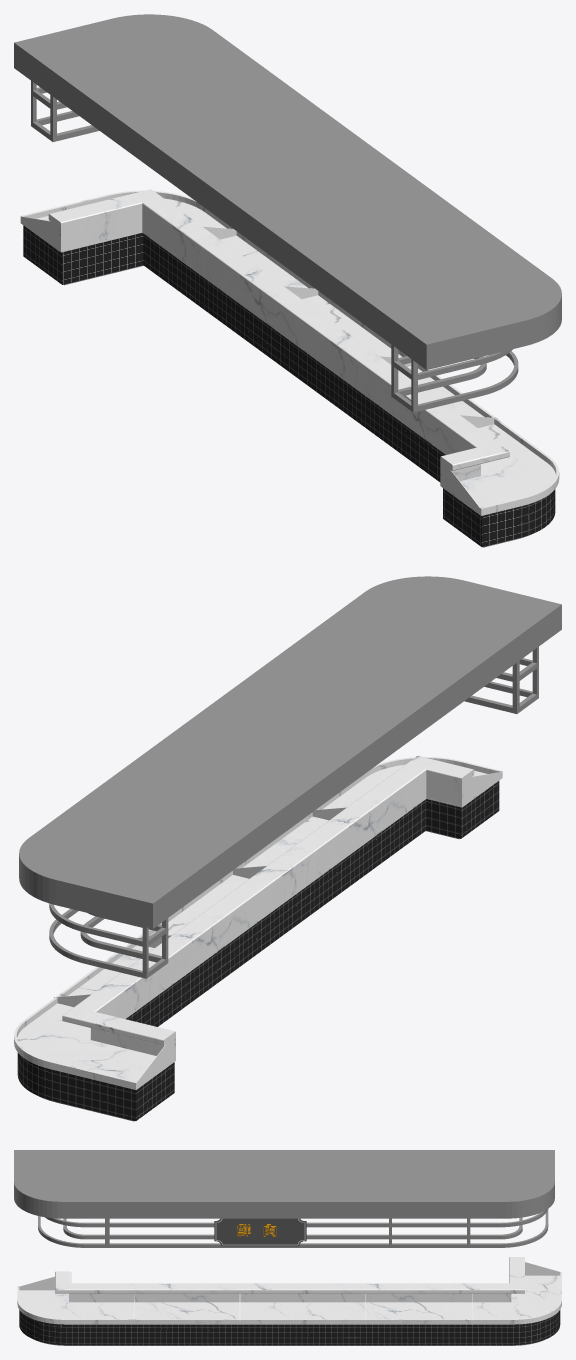
The model's file is xeiRou.glb.
3 views of the same model, one above another, from view 1: azimuth 30°, elevation 25°; view 2: azimuth 150°, elevation 25°; view 3: azimuth 270°, elevation 25° (orthographic). The views are drawn at different scales.
Visible parts, largest first — view 1: xeiRou; view 2: xeiRou; view 3: xeiRou.
Part boxes in pixels (x1=…): xeiRou: x1=14, y1=14, x2=561, y2=547; xeiRou: x1=14, y1=576, x2=561, y2=1121; xeiRou: x1=14, y1=1150, x2=561, y2=1345.
Size of the model in its own units: 2.68 by 3.5 by 11.89.
Materials: 7 (3 with a texture image).
